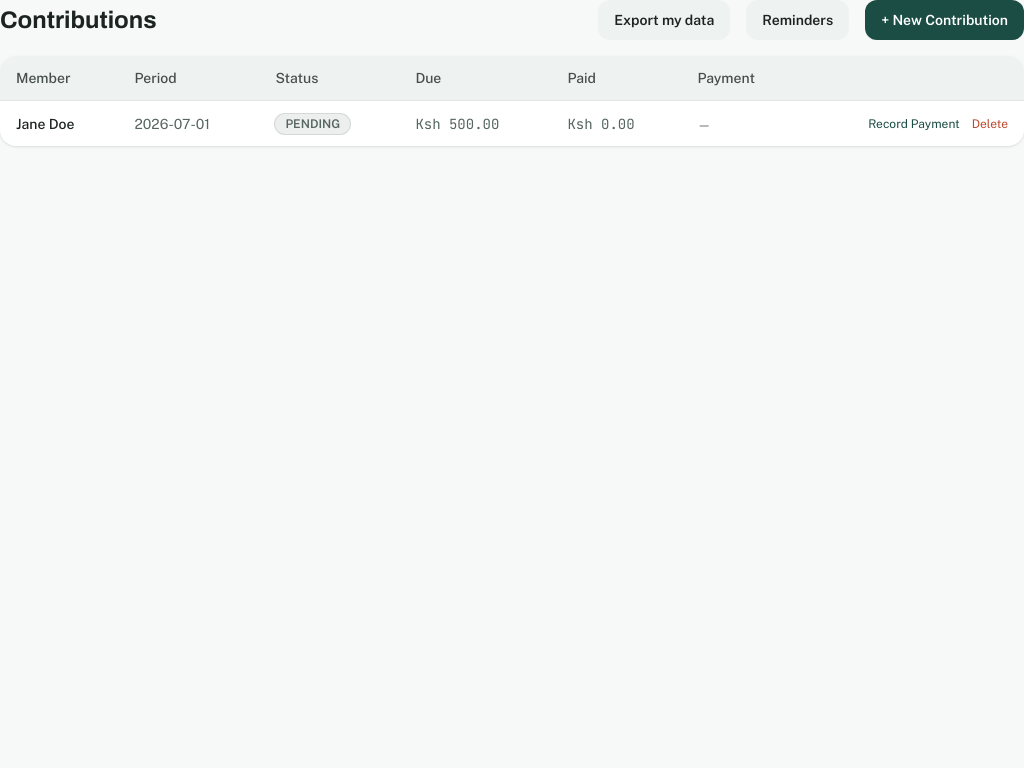
Test: ContributionsPage › shows an error notice when deletion fails
The image size is (1024, 768).
Expected: the text "Jane Doe" is shown, 16,116 -> 74,132
Click the button "Delete". click: click(990, 124)
box: 972,116 -> 1008,132
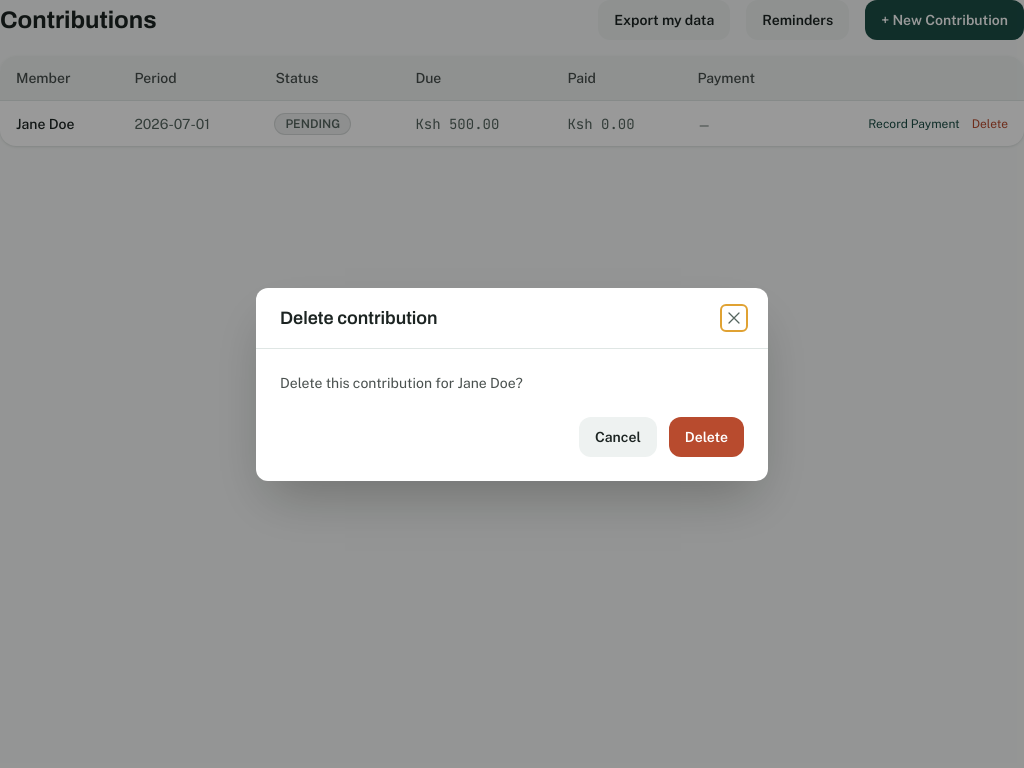
Click the button "Delete". click: click(706, 436)
box: 669,416 -> 744,456
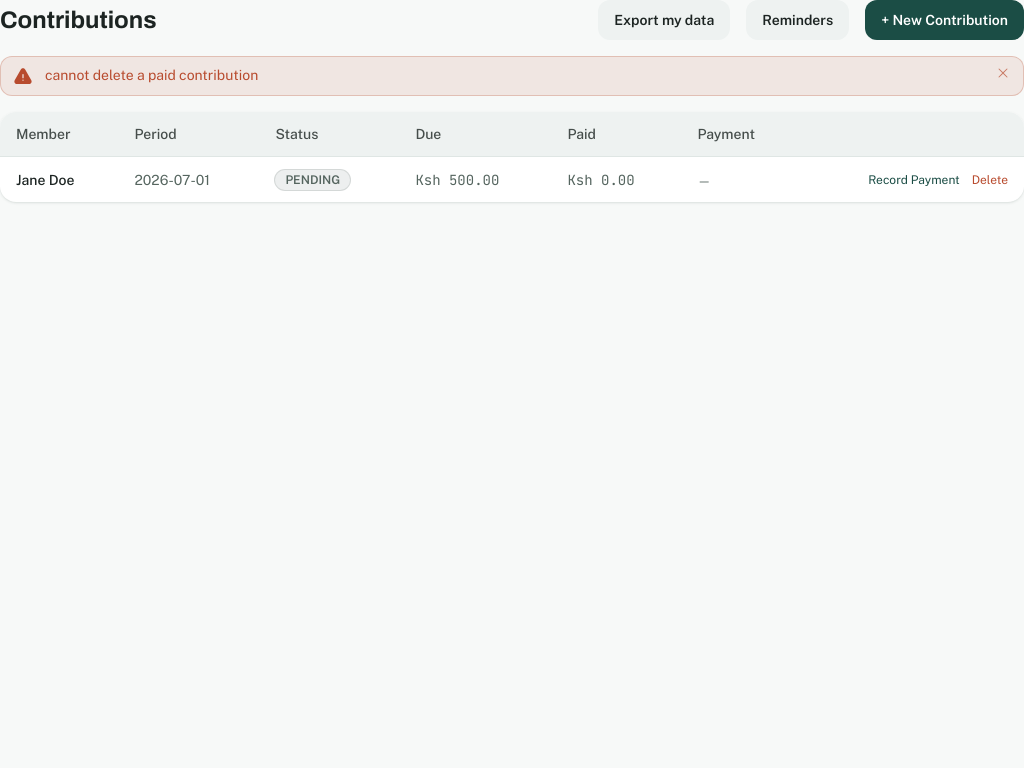
Expected: the text "cannot delete a paid contribution" is shown, 45,67 -> 258,83
